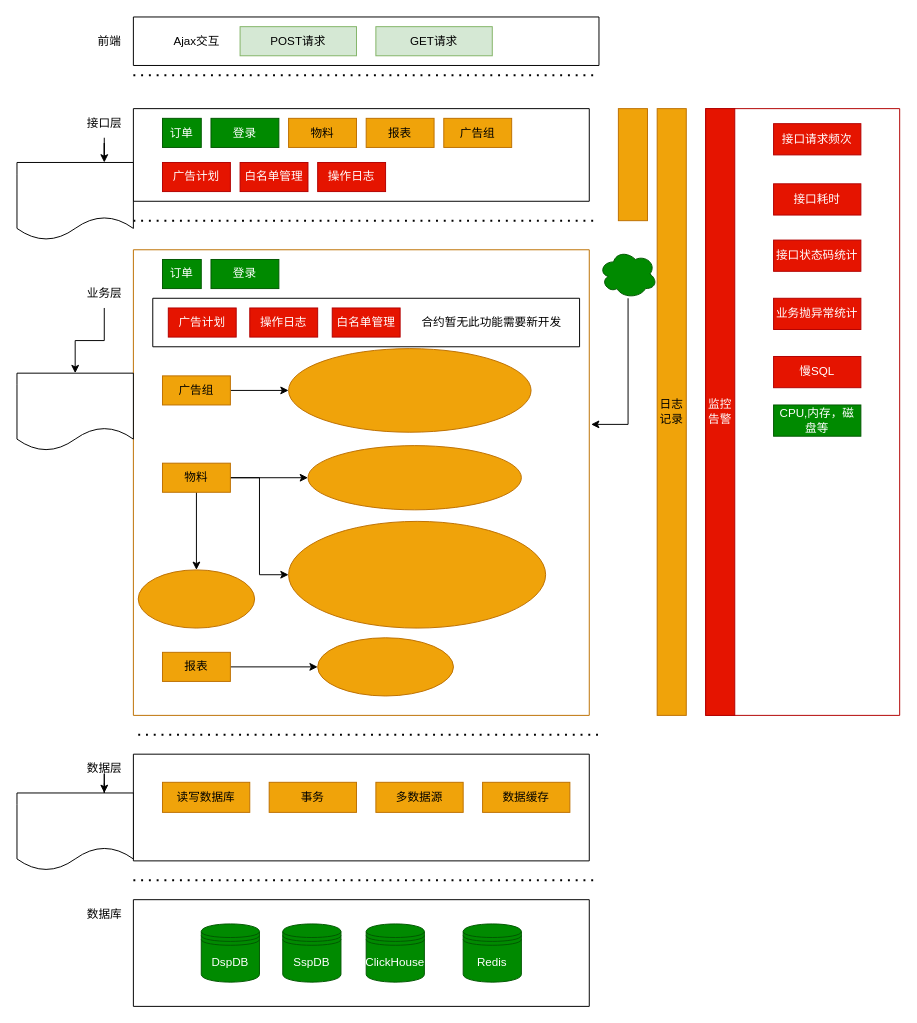
This 917x1023 diagram has some shape labels left out. The shapes that lost their labels are listed below. From the top down, each one's box as (x1, y1, x2, y2) in pixels, then its label:
(617, 108, 647, 221): 权限控制
(16, 162, 133, 240): 接口层可以根据系统标识定制接口进行校验
(598, 249, 657, 298): kafka
(288, 348, 531, 432): 列表，新增，编辑，详情，复用相关接口。 增加适配精准定向相关参数
(16, 372, 133, 451): 统一业务逻辑，避免根据精准合约标识做逻辑判断
(307, 445, 521, 510): 列表，预览，复用相关接口。 增加适配精准定向相关参数
(288, 520, 546, 628): 上传，编辑，详情物料逻辑修改 1、拆分为根据sku上传及查询、根据模板上传机查询。 2、删除时增加判断物料id（合约只保留一份物料，精准为多份）
(137, 569, 255, 628): 模板查询增加根据平台查询所有
(317, 637, 453, 696): 增加精准各级维度报表
(16, 792, 133, 871): 统一使用mybatis框架操作数据库，自定义sql使用xml形式
